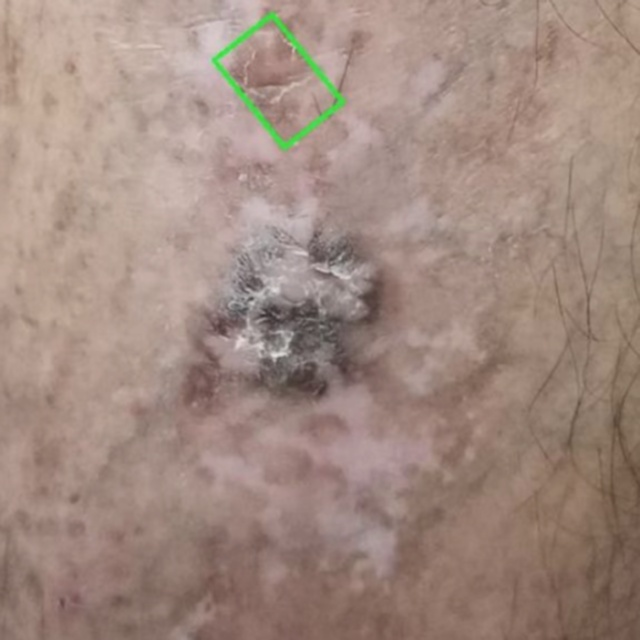Eczema: (215, 15, 342, 148)
